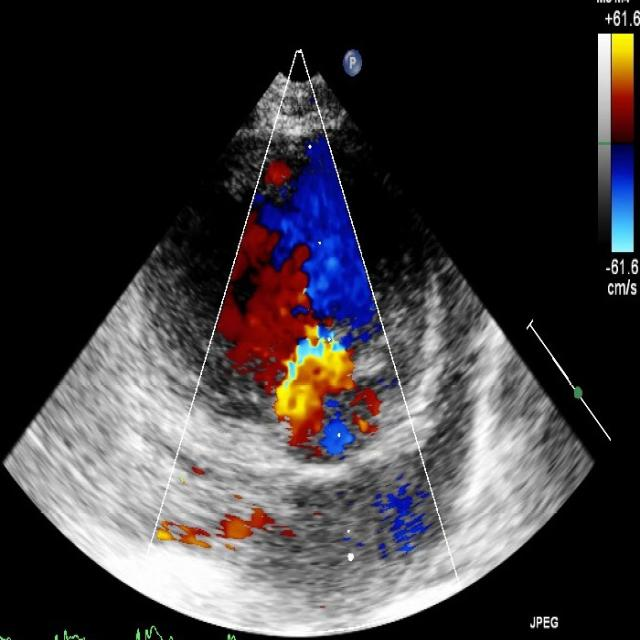VSDType2: (241, 246, 335, 408)
